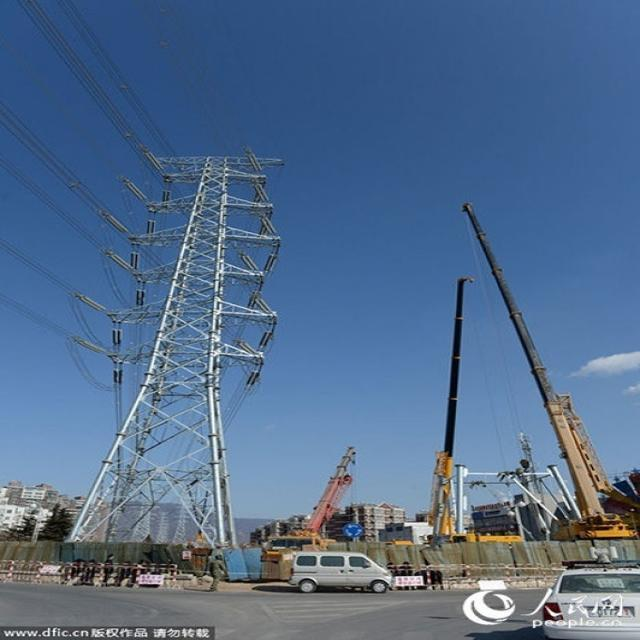non-critical vegetation: (58, 140, 286, 578)
